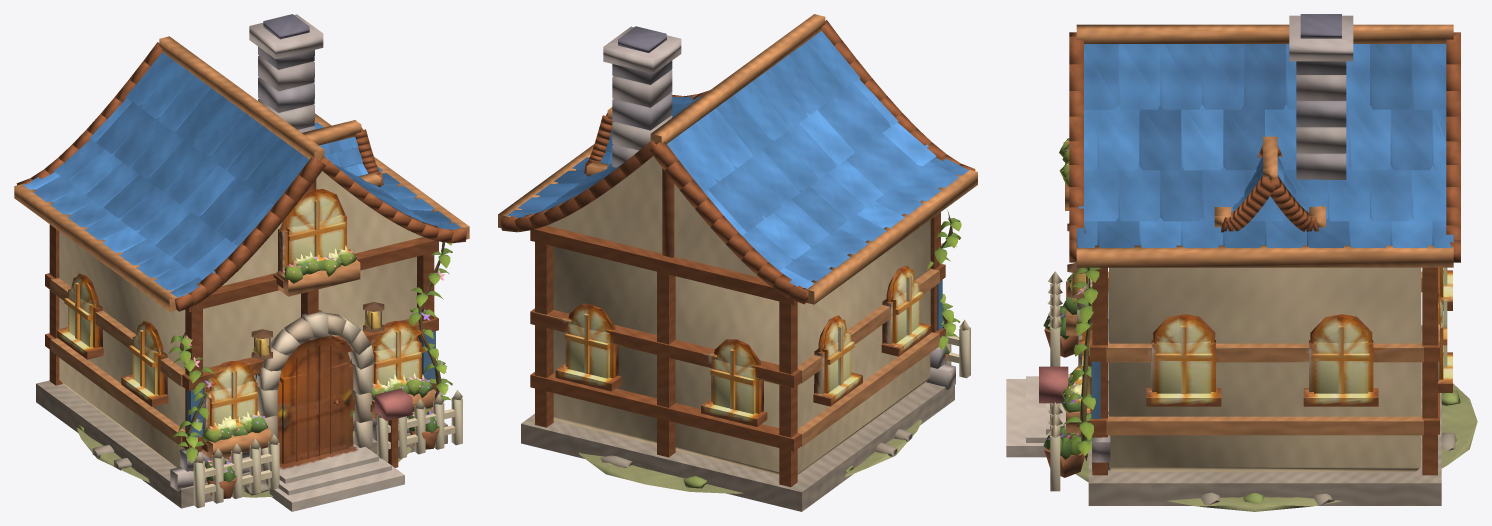
File: bld_anna_house.glb
3 renders of one model, left to right at view 1: azimuth 30°, elevation 25°; view 2: azimuth 150°, elevation 25°; view 3: azimuth 270°, elevation 25°, orthographic. The views are drawn at different scales.
Parts seen in each view (by area): view 1: Body; view 2: Body; view 3: Body.
Part boxes in pixels (left/top/right/bottom): Body: left=14, top=14, right=469, bottom=511; Body: left=498, top=14, right=977, bottom=511; Body: left=1006, top=14, right=1477, bottom=511.
Bounding box in the file's own units: 4.04 × 4.71 × 4.53.
Materials: 1 (1 with a texture image).
